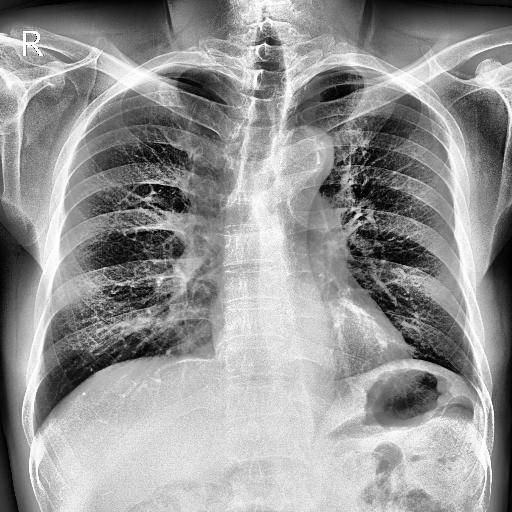0- Aortic enlargement: (272, 126, 335, 184), (278, 129, 334, 190), (278, 126, 335, 182)
11- Pleural thickening: (319, 62, 407, 90)
